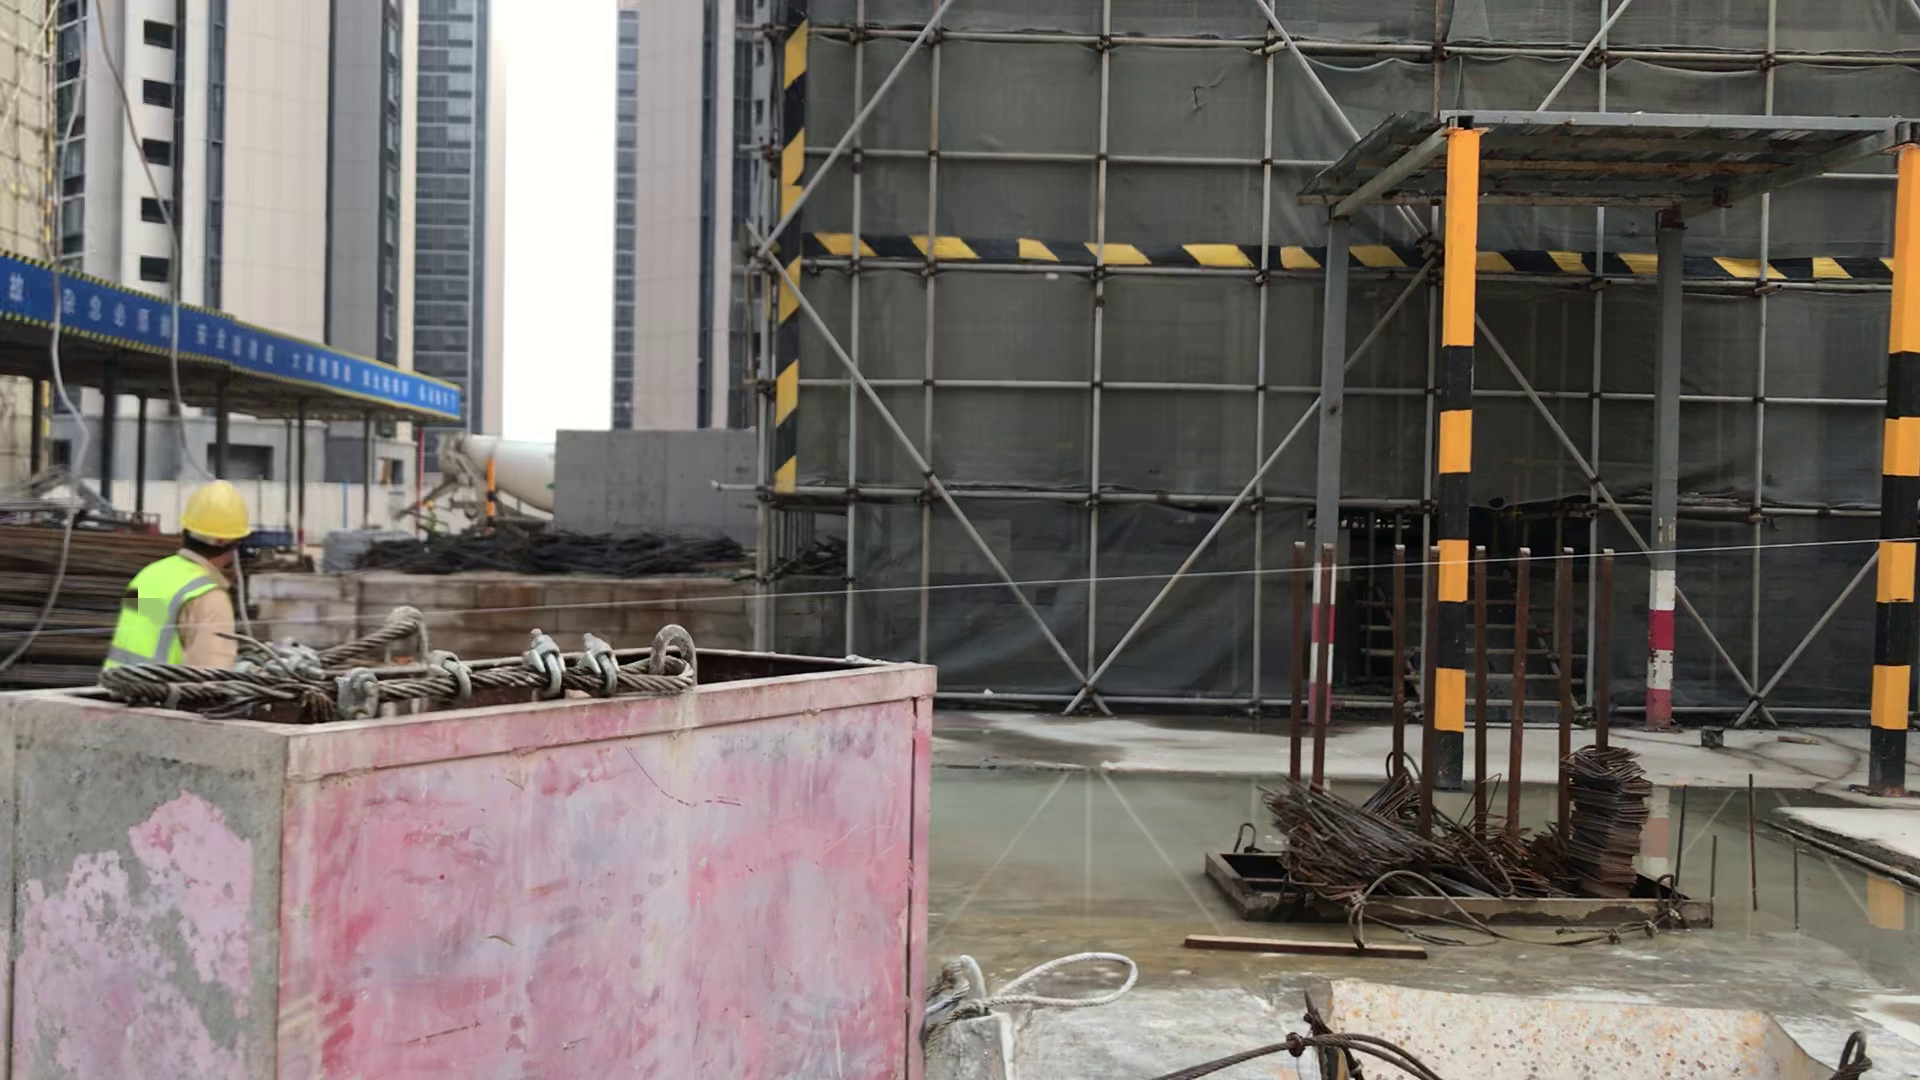helmet: (177, 478, 262, 548), (425, 499, 436, 512)
hopper: (1301, 964, 1833, 1080)
person: (99, 477, 268, 679), (422, 498, 441, 534)
vest: (108, 556, 217, 664)
